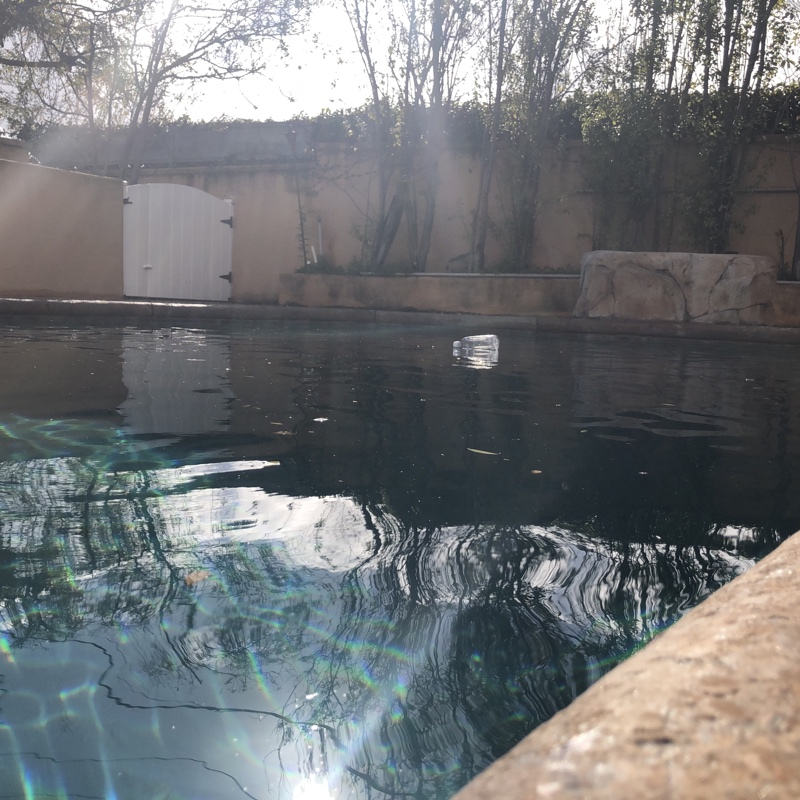Plastic Bottle: (452, 333, 497, 350)
